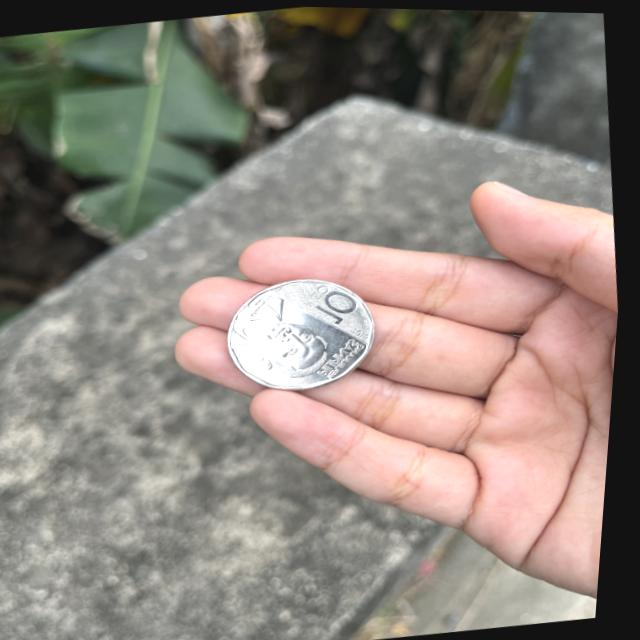10_New_Front: (301, 276, 367, 326)
